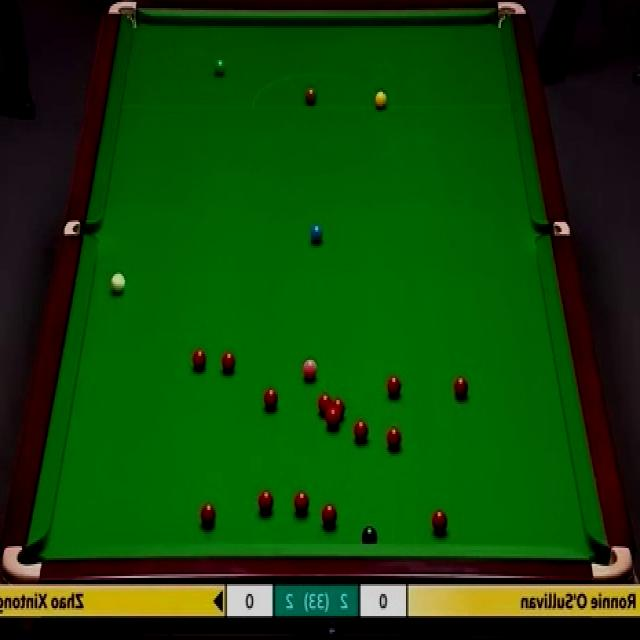black-ball: (361, 526, 378, 545)
blue-ball: (310, 220, 324, 245)
brown-ball: (305, 88, 317, 106)
green-ball: (213, 58, 228, 78)
pink-ball: (302, 354, 317, 382)
red-ball: (220, 349, 237, 378), (386, 424, 402, 452), (200, 502, 217, 528), (431, 509, 448, 534), (258, 489, 274, 515), (453, 375, 469, 400), (294, 491, 309, 516), (192, 349, 207, 374), (264, 387, 279, 412), (387, 376, 402, 400), (322, 503, 336, 528), (354, 419, 368, 443), (318, 394, 332, 418), (326, 410, 339, 430), (332, 398, 345, 418)
white-ball: (110, 266, 128, 294)
yellow-ball: (375, 89, 388, 109)
